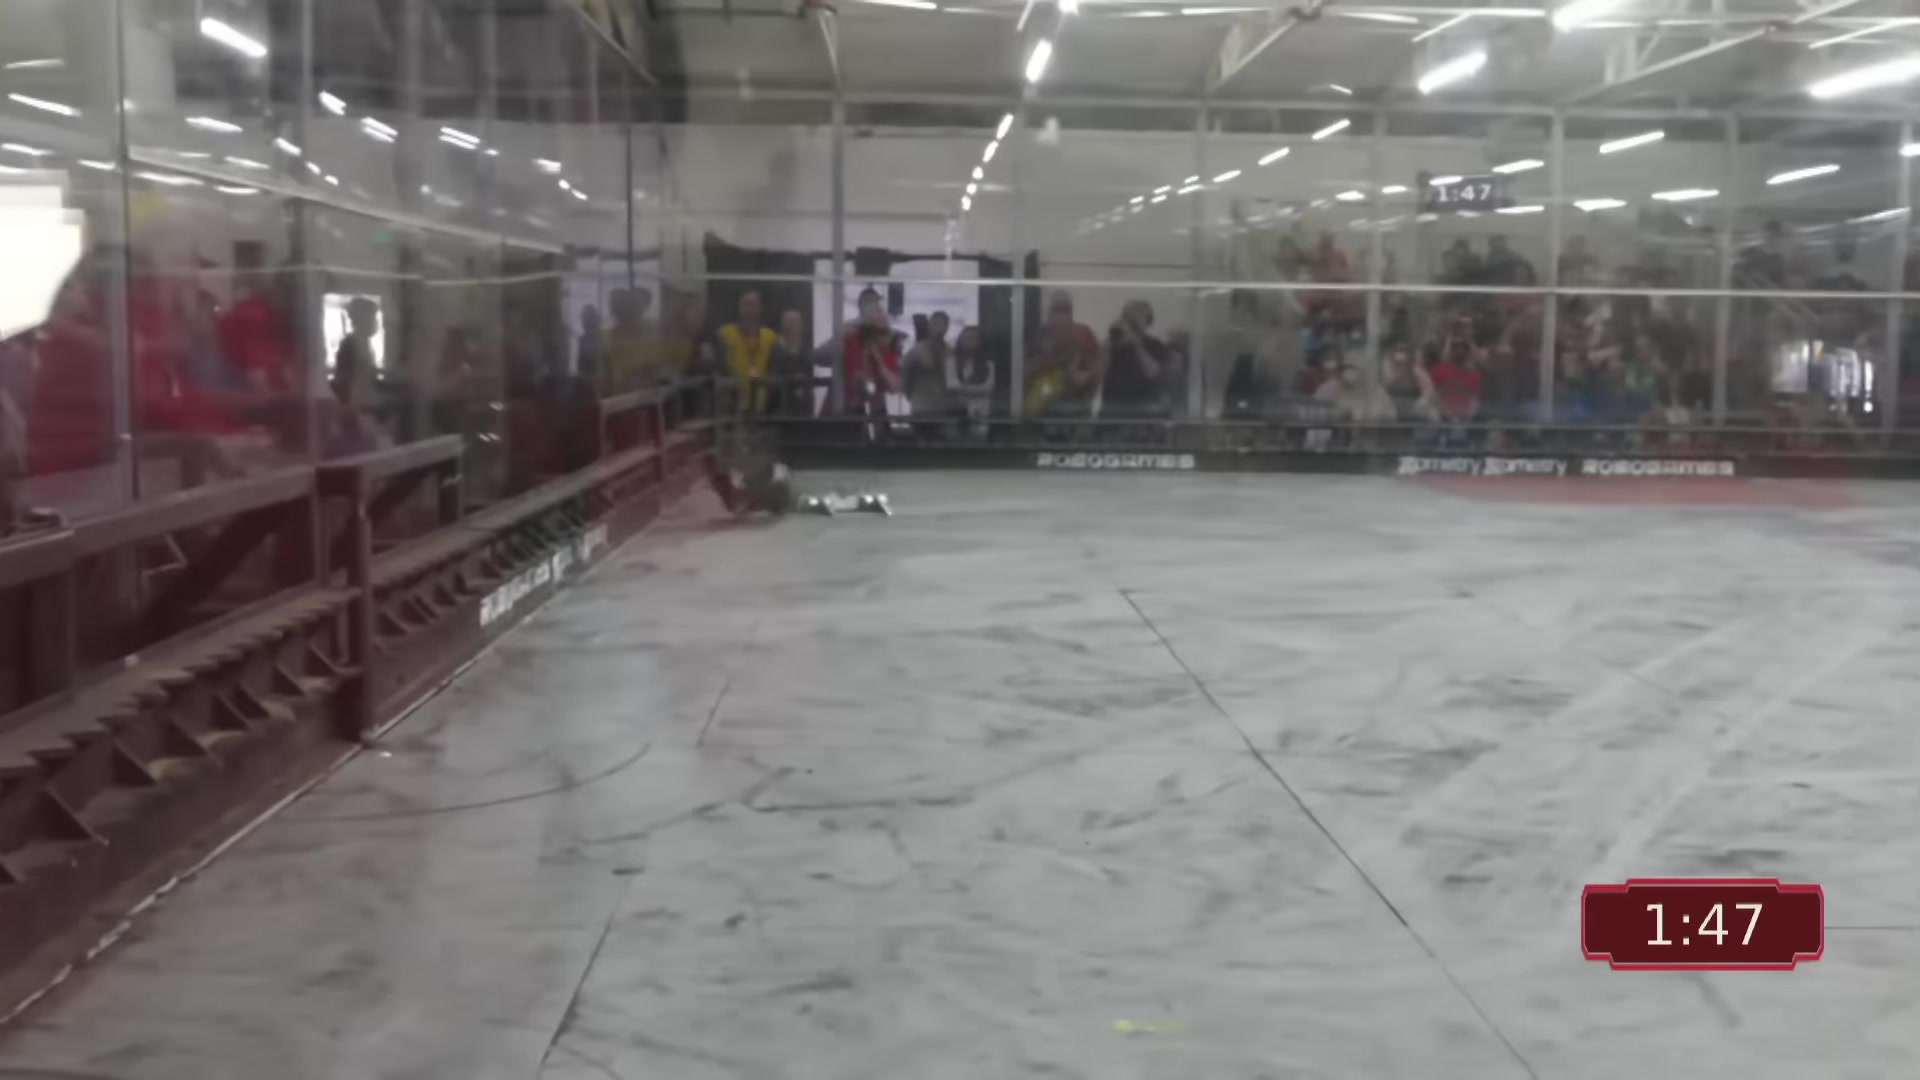combatbot: (708, 452, 790, 514), (798, 496, 895, 518)
